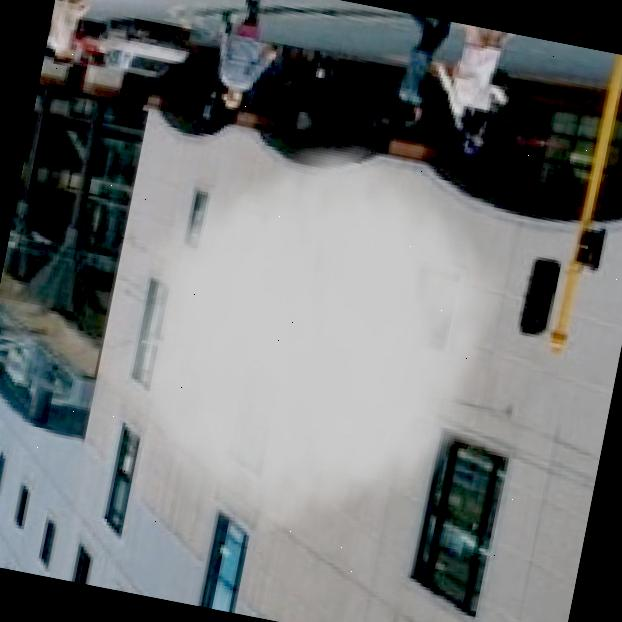smoke: (85, 94, 542, 585)
